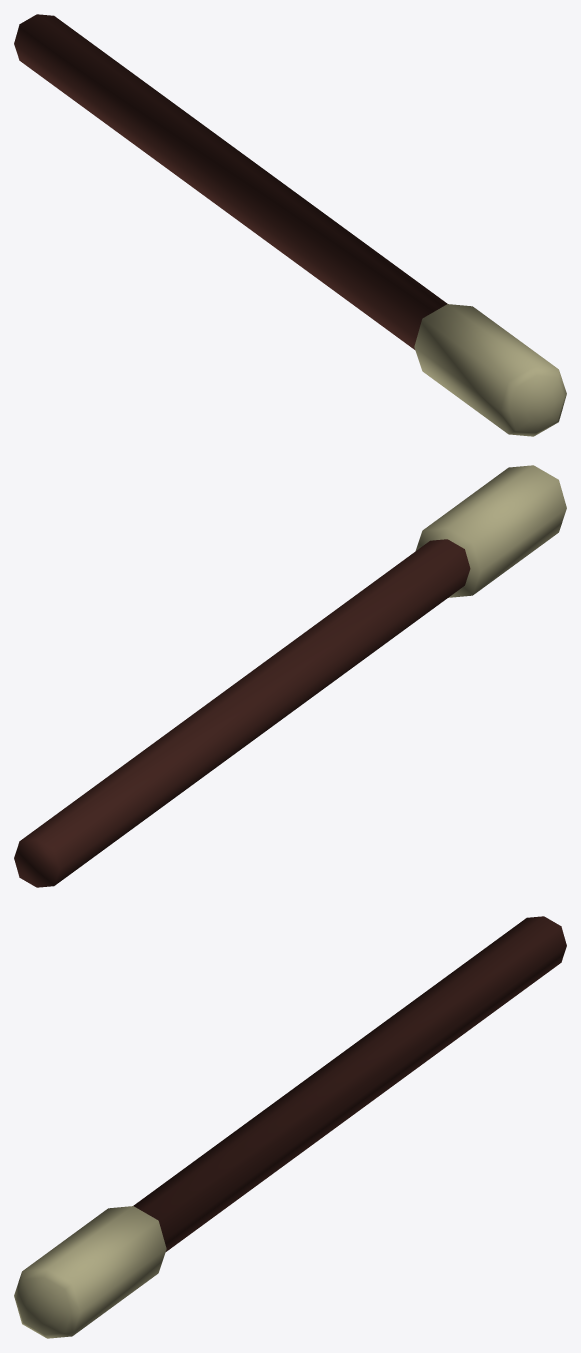
The model's file is Torch.dae.
The picture shows the model from 3 angles, top to bottom: view 1: azimuth 30°, elevation 25°; view 2: azimuth 150°, elevation 25°; view 3: azimuth 330°, elevation 25°; orthographic projection.
Visible parts, largest first — view 1: Torch; view 2: Torch; view 3: Torch.
Boxes of the visible parts, left/top/right/bottom form: Torch: left=14, top=14, right=566, bottom=436; Torch: left=14, top=465, right=566, bottom=887; Torch: left=14, top=916, right=566, bottom=1338.
Size of the model in its own units: 0.0676 by 0.8883 by 0.0676.
